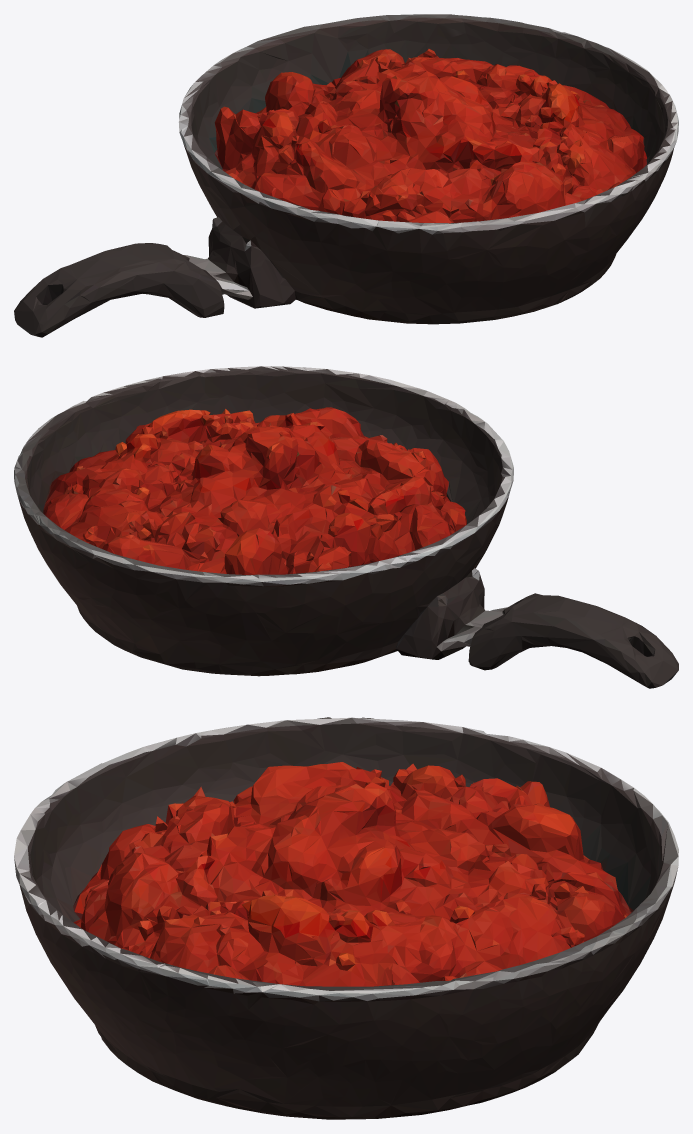
File: pan_sauce.glb
The picture shows the model from 3 angles, top to bottom: view 1: azimuth 30°, elevation 25°; view 2: azimuth 150°, elevation 25°; view 3: azimuth 270°, elevation 25°; orthographic projection. The views are drawn at different scales.
Parts seen in each view (by area): view 1: geometry_0; view 2: geometry_0; view 3: geometry_0.
Part boxes in pixels (x1=…): geometry_0: x1=14, y1=14, x2=678, y2=337; geometry_0: x1=14, y1=366, x2=678, y2=688; geometry_0: x1=14, y1=717, x2=678, y2=1119.
Bounding box in the file's own units: 0.28 × 0.0731 × 0.1986.
1 material, 1 textured.
